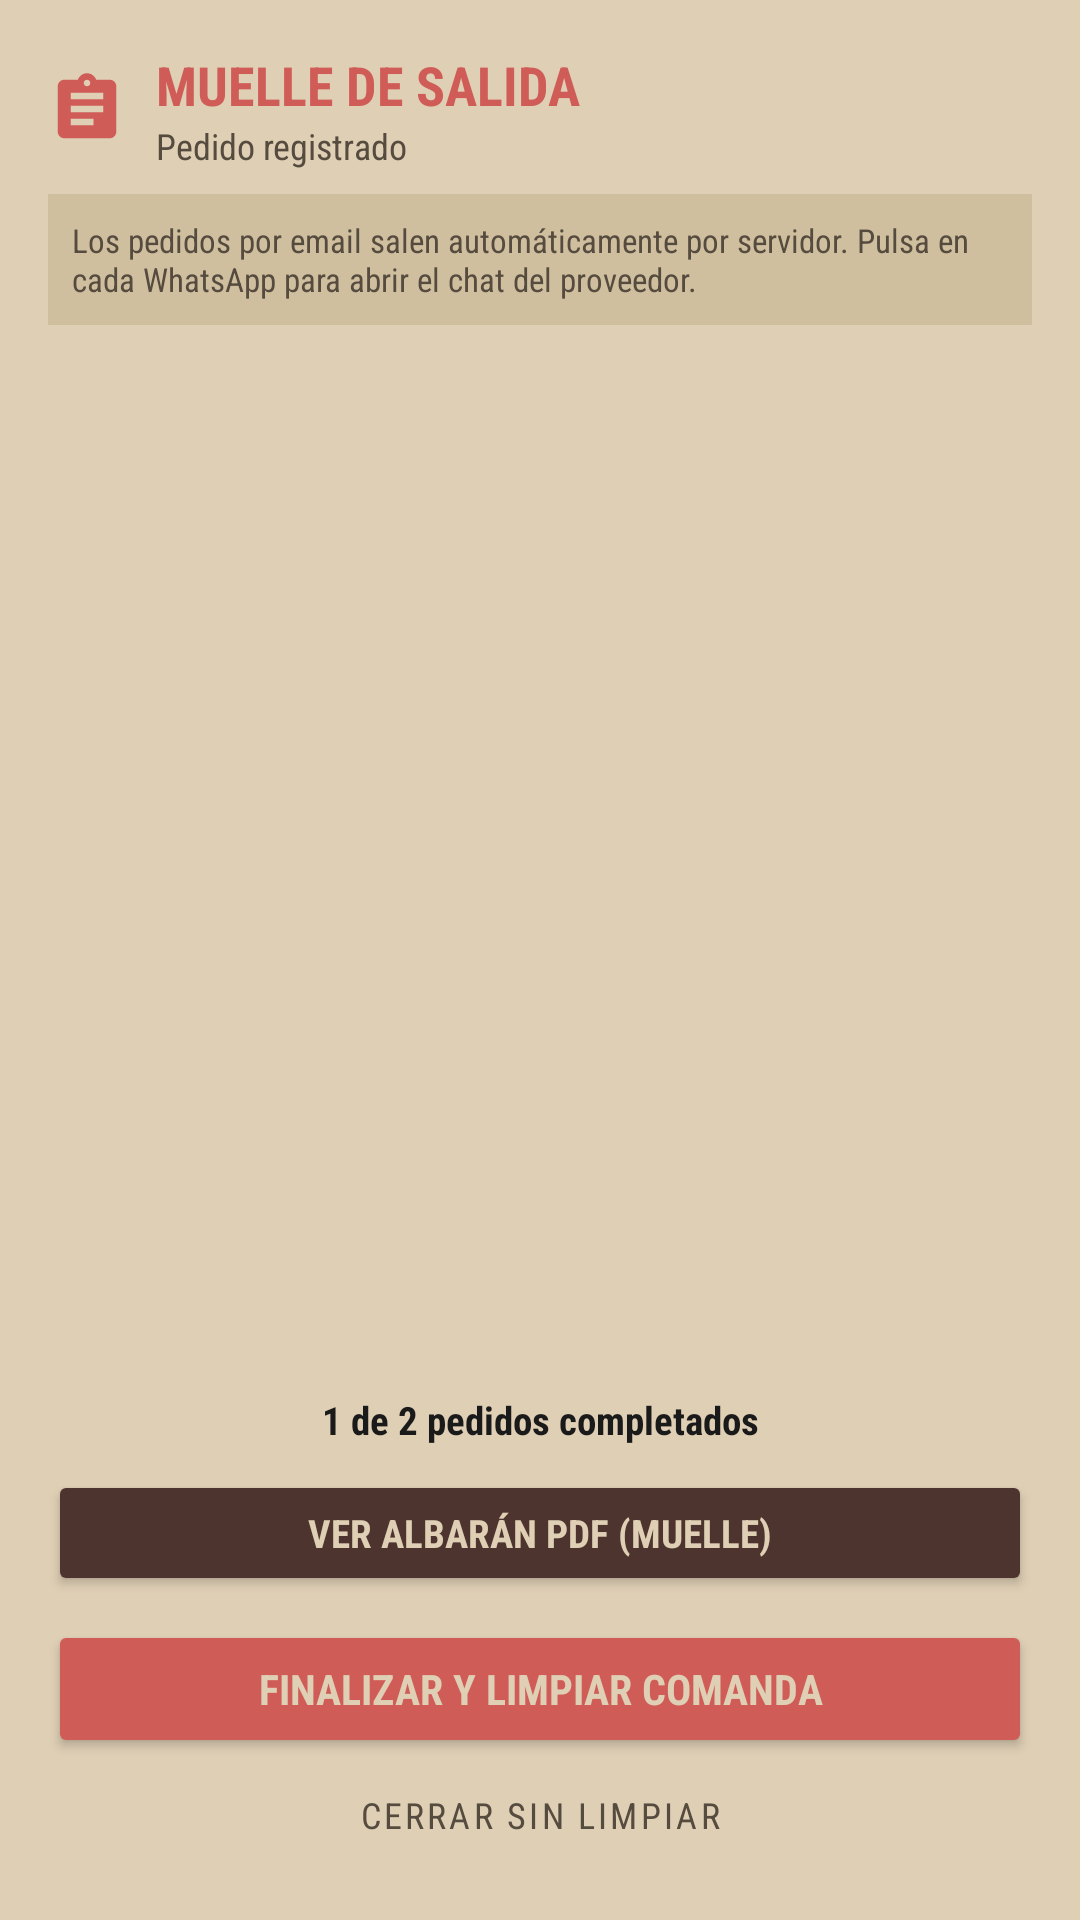

Icon click points for this 1080 x 1920 phone screenshot, format (x=x, y=y):
order: (x=87, y=106)
